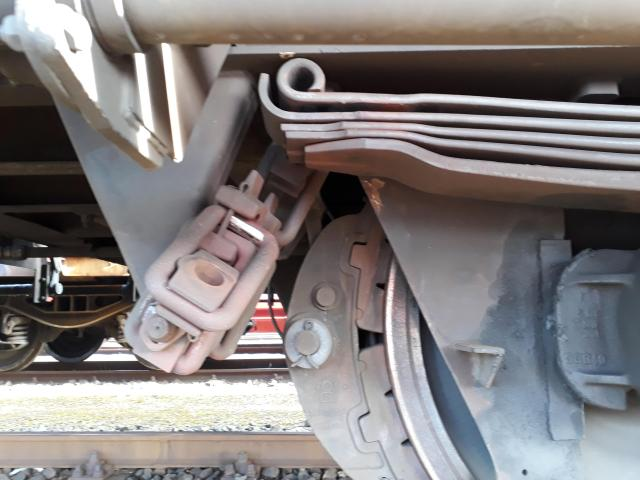blattfederww: (233, 55, 640, 184)
